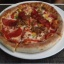pizza: (1, 2, 64, 53)
